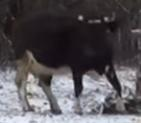cow: (12, 14, 121, 115)
